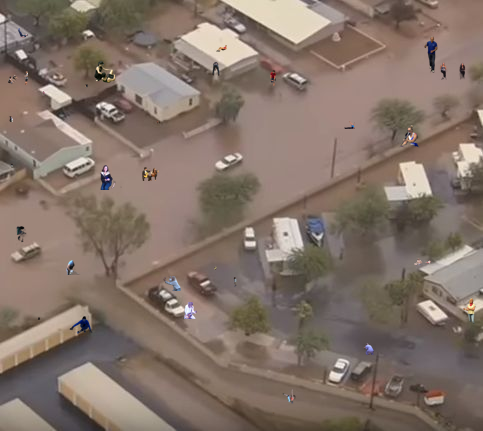Human: (100, 165, 122, 190), (424, 36, 438, 74), (94, 61, 118, 83), (439, 62, 468, 80), (399, 125, 420, 148), (69, 316, 93, 334), (463, 298, 476, 324), (8, 71, 28, 85), (163, 276, 181, 291), (142, 167, 159, 181), (183, 302, 197, 319), (66, 260, 81, 275), (16, 226, 29, 243), (282, 389, 296, 404), (362, 343, 374, 355), (414, 258, 431, 265), (212, 62, 220, 76), (270, 70, 277, 86), (18, 28, 28, 38), (344, 121, 355, 129), (216, 45, 227, 52), (233, 277, 237, 287), (9, 116, 13, 122), (85, 84, 88, 89), (42, 91, 45, 95), (214, 266, 217, 270), (271, 411, 275, 414), (157, 121, 161, 124), (11, 163, 13, 168), (37, 317, 40, 320)
